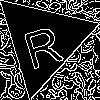R: (18, 16, 65, 70)
